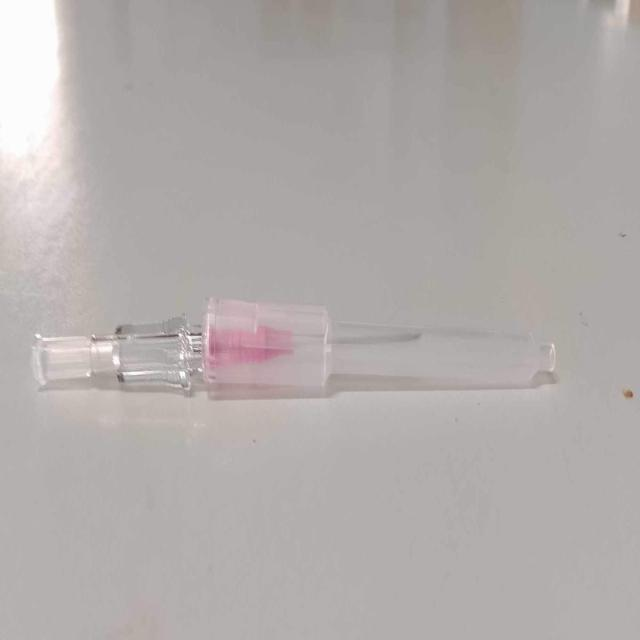General: (31, 312, 203, 396), (200, 294, 332, 394)
Sharps: (31, 294, 557, 398)
